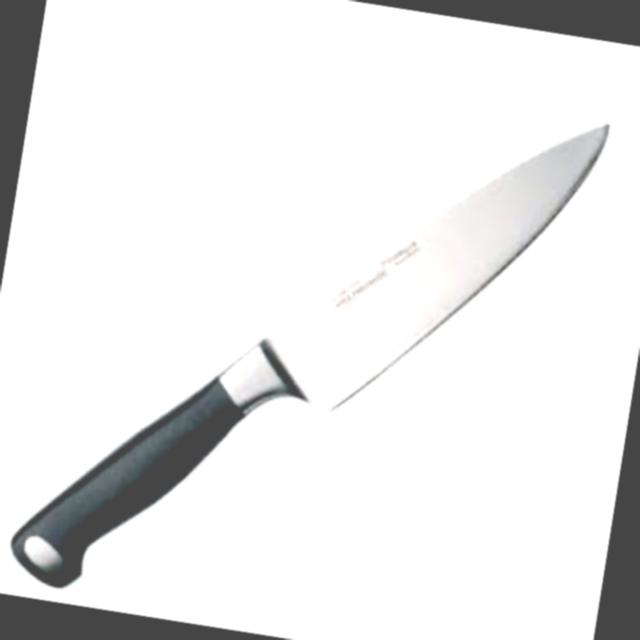knife: (0, 28, 617, 640)
